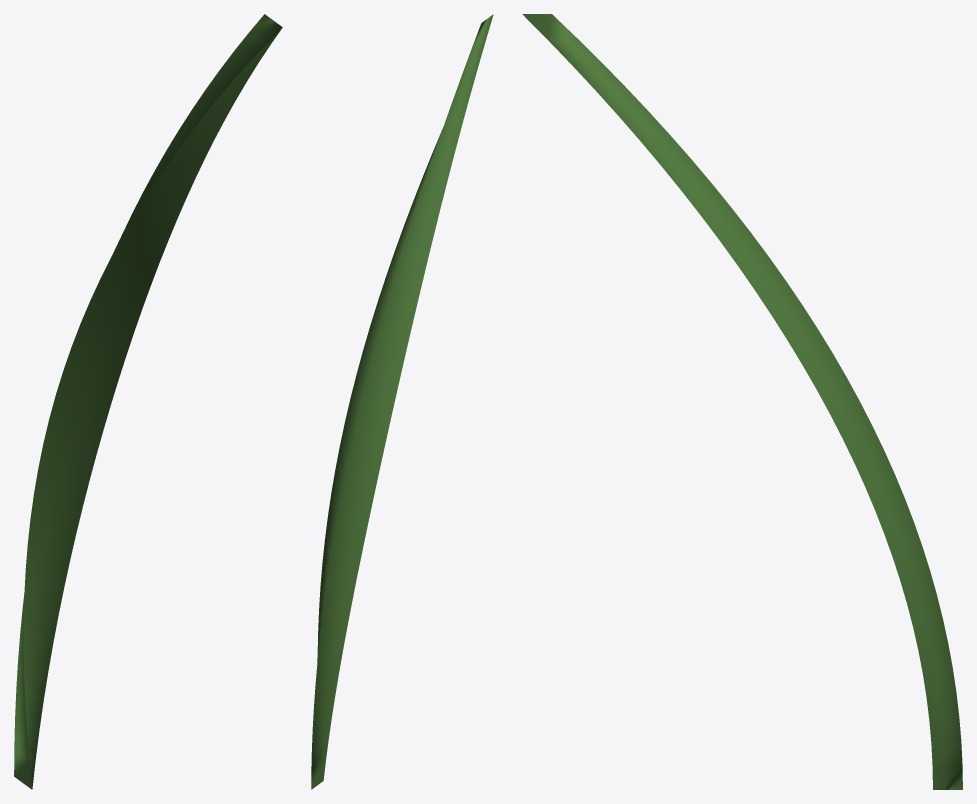
File: leaf-grass.glb
3 renders of one model, left to right at view 1: azimuth 30°, elevation 25°; view 2: azimuth 150°, elevation 25°; view 3: azimuth 270°, elevation 25°, orthographic. The views are drawn at different scales.
Visible parts, largest first — view 1: tint-surface; view 2: tint-surface; view 3: tint-surface.
Boxes of the visible parts, box(x1,y1,x2,y2) form: tint-surface: box(14, 14, 282, 789); tint-surface: box(311, 14, 493, 789); tint-surface: box(522, 14, 962, 789).
Size of the model in its own units: 0.07 by 1 by 0.515.
